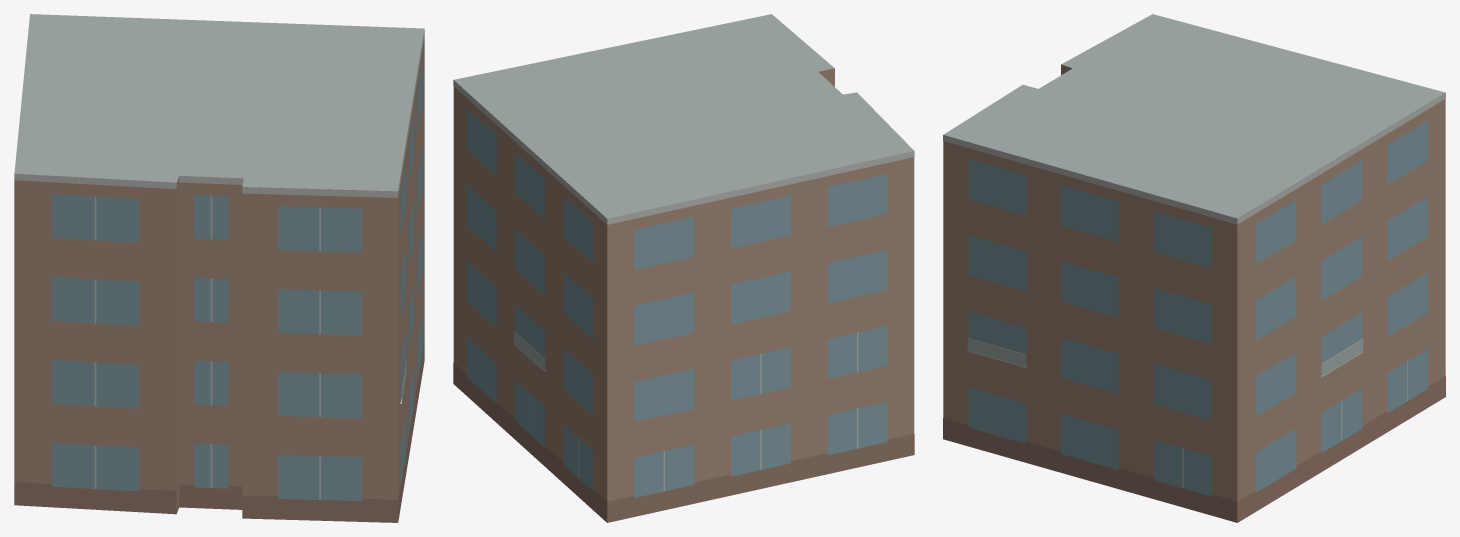
Rendered from survey-upis-32780086.glb.
3 renders of one model, left to right at view 1: azimuth 30°, elevation 25°; view 2: azimuth 150°, elevation 25°; view 3: azimuth 270°, elevation 25°, orthographic. The views are drawn at different scales.
Parts seen in each view (by area): view 1: survey-upis-32780086.tmp; view 2: survey-upis-32780086.tmp; view 3: survey-upis-32780086.tmp.
Part boxes in pixels (x1,y1,x2,y2): survey-upis-32780086.tmp: (14,14,424,522); survey-upis-32780086.tmp: (453,14,914,522); survey-upis-32780086.tmp: (943,14,1445,522).
Bounding box in the file's own units: 17.59 × 12.2 × 18.26.
